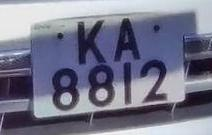1: (116, 57, 141, 111)
2: (135, 55, 173, 110)
8: (81, 62, 121, 111), (48, 63, 84, 114)
A: (111, 13, 145, 67)
K: (73, 14, 110, 70)
